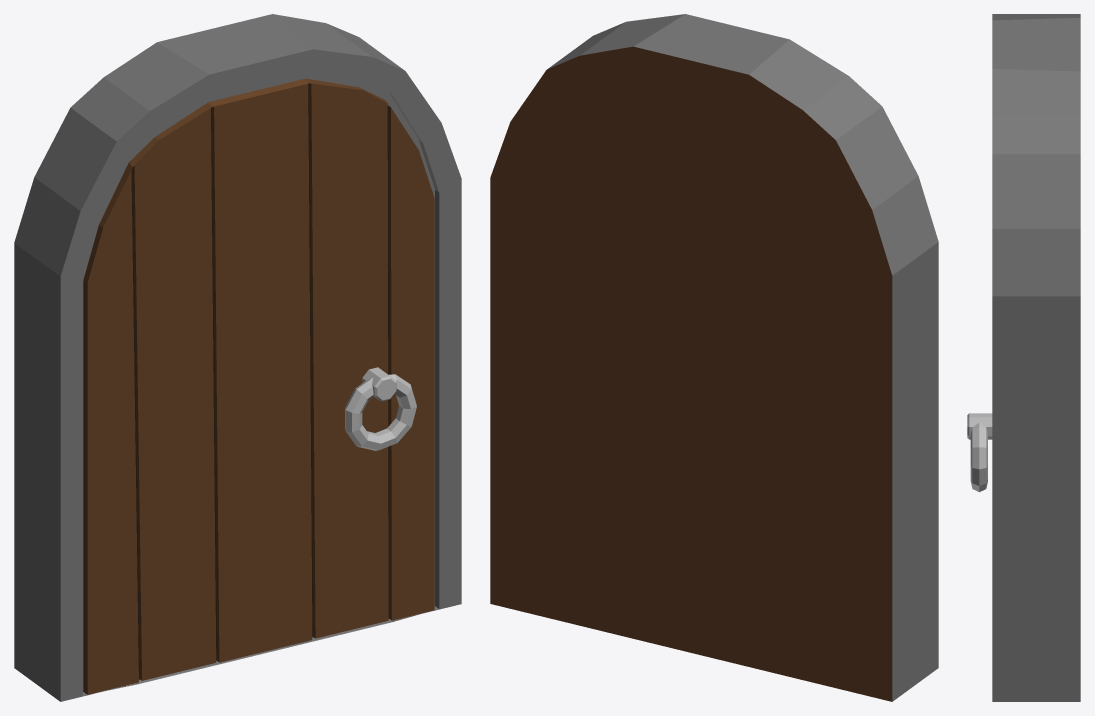
The model's file is castle_door.fbx.
The picture shows the model from 3 angles, left to right: view 1: azimuth 30°, elevation 25°; view 2: azimuth 150°, elevation 25°; view 3: azimuth 270°, elevation 25°; orthographic projection. The views are drawn at different scales.
Visible parts, largest first — view 1: Cube.139; view 2: Cube.139; view 3: Cube.139.
Part boxes in pixels (x1,y1,x2,y2): Cube.139: [14, 14, 461, 701]; Cube.139: [490, 14, 938, 701]; Cube.139: [967, 14, 1080, 701].
Size of the model in its own units: 200 by 282 by 51.33.
